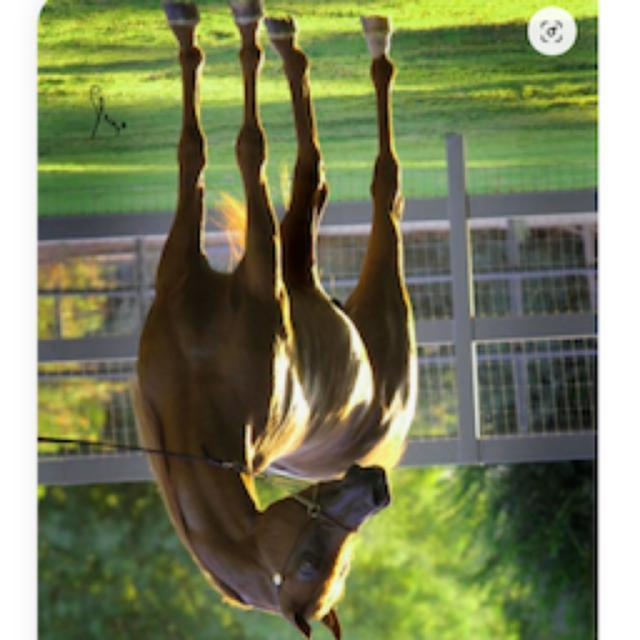Horse: (125, 2, 425, 640)
